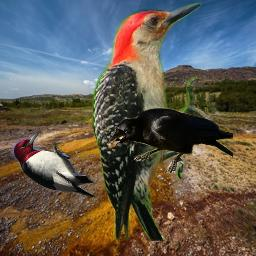Crow: (107, 107, 233, 174)
Woodpecker: (92, 3, 219, 241), (9, 129, 100, 198)
